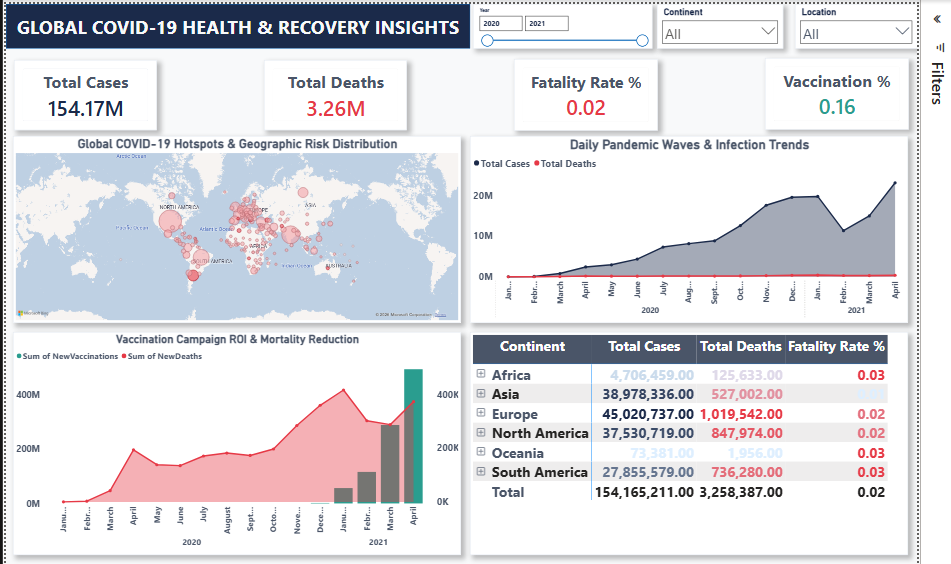

The dashboard page shown, as its layout file describes it:
{"tool":"powerbi","page":{"name":"Page 1","canvas":[1920,1180],"ordinal":0},"visuals":[{"type":"shape","box":[0,0,978.3,93.9],"z":0},{"type":"cardVisual","fields":{"Data":["Fact_Covid_Master.Total Cases"]},"box":[16.9,117.3,301.3,147.5],"z":1000},{"type":"cardVisual","fields":{"Data":["Fact_Covid_Master.Total Deaths"]},"box":[543.9,117.3,301.3,147.5],"z":2000},{"type":"cardVisual","fields":{"Data":["Fact_Covid_Master.Fatality Rate %"]},"box":[1070.8,115.4,302.6,151.3],"z":3000},{"type":"cardVisual","fields":{"Data":["Fact_Covid_Master.Vaccination %"]},"box":[1599.1,114.8,302.6,151.3],"z":4000},{"type":"map","title":"Global COVID-19 Hotspots & Geographic Risk Distribution","fields":{"Category":["Fact_Covid_Master.Location"],"Size":["Fact_Covid_Master.Total Cases"]},"box":[15.7,279.1,944.3,393.9],"z":5000},{"type":"lineChart","title":"Daily Pandemic Waves & Infection Trends","fields":{"Y":["Fact_Covid_Master.Total Cases","Fact_Covid_Master.Total Deaths"],"Category":["Fact_Covid_Master.Date.Variation.Date Hierarchy.Year","Fact_Covid_Master.Date.Variation.Date Hierarchy.Month"]},"box":[978.3,279.1,923.5,393.9],"z":6000},{"type":"lineStackedColumnComboChart","title":"Vaccination Campaign ROI & Mortality Reduction","fields":{"Category":["Fact_Covid_Master.Date.Variation.Date Hierarchy.Year","Fact_Covid_Master.Date.Variation.Date Hierarchy.Month"],"Y":["Sum(Fact_Covid_Master.NewVaccinations)"],"Y2":["Sum(Fact_Covid_Master.NewDeaths)"]},"box":[15.7,691.3,944.3,469.6],"z":7000},{"type":"pivotTable","fields":{"Rows":["Fact_Covid_Master.Continent","Fact_Covid_Master.Location"],"Values":["Fact_Covid_Master.Total Cases","Fact_Covid_Master.Total Deaths","Fact_Covid_Master.Fatality Rate %"]},"box":[978.3,691.3,923.5,469.6],"z":8000},{"type":"slicer","fields":{"Values":["Fact_Covid_Master.Date.Variation.Date Hierarchy.Year"]},"box":[983.5,0,378.3,93.9],"z":9000},{"type":"slicer","fields":{"Values":["Fact_Covid_Master.Continent"]},"box":[1372.2,0,266.1,93.9],"z":10000},{"type":"slicer","fields":{"Values":["Fact_Covid_Master.Location"]},"box":[1661.7,0,258.3,93.9],"z":11000}]}

Visuals, with their boxes in screenshot pixels (x1, y1, x2, y2):
shape: crop(0, 0, 471, 46)
cardVisual - Fact_Covid_Master.Total Cases: crop(1, 57, 148, 130)
cardVisual - Fact_Covid_Master.Total Deaths: crop(259, 57, 406, 130)
cardVisual - Fact_Covid_Master.Fatality Rate %: crop(516, 56, 665, 130)
cardVisual - Fact_Covid_Master.Vaccination %: crop(775, 56, 923, 130)
"Global COVID-19 Hotspots & Geographic Risk Distribution" map: crop(0, 137, 462, 329)
"Daily Pandemic Waves & Infection Trends" lineChart: crop(471, 137, 923, 329)
"Vaccination Campaign ROI & Mortality Reduction" lineStackedColumnComboChart: crop(0, 338, 462, 563)
pivotTable - Fact_Covid_Master.Continent x Fact_Covid_Master.Location: crop(471, 338, 923, 563)
slicer - Fact_Covid_Master.Date.Variation.Date Hierarchy.Year: crop(474, 0, 659, 46)
slicer - Fact_Covid_Master.Continent: crop(664, 0, 794, 46)
slicer - Fact_Covid_Master.Location: crop(806, 0, 932, 46)
